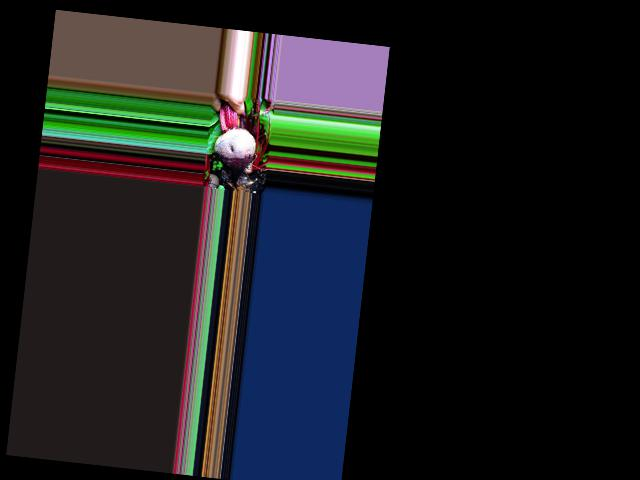beet: (210, 99, 260, 193)
